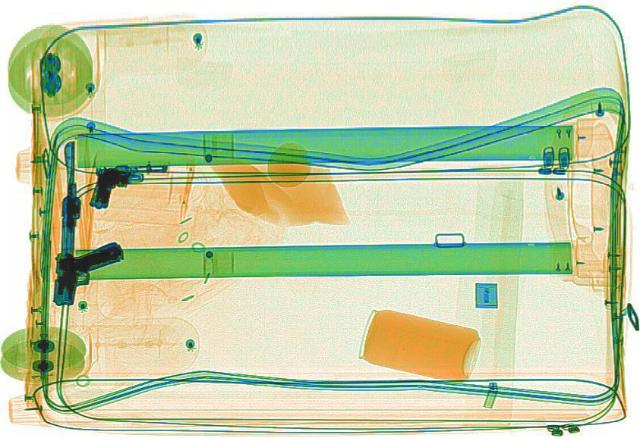Gun: (19, 233, 149, 308), (82, 160, 174, 208), (55, 139, 81, 260)
